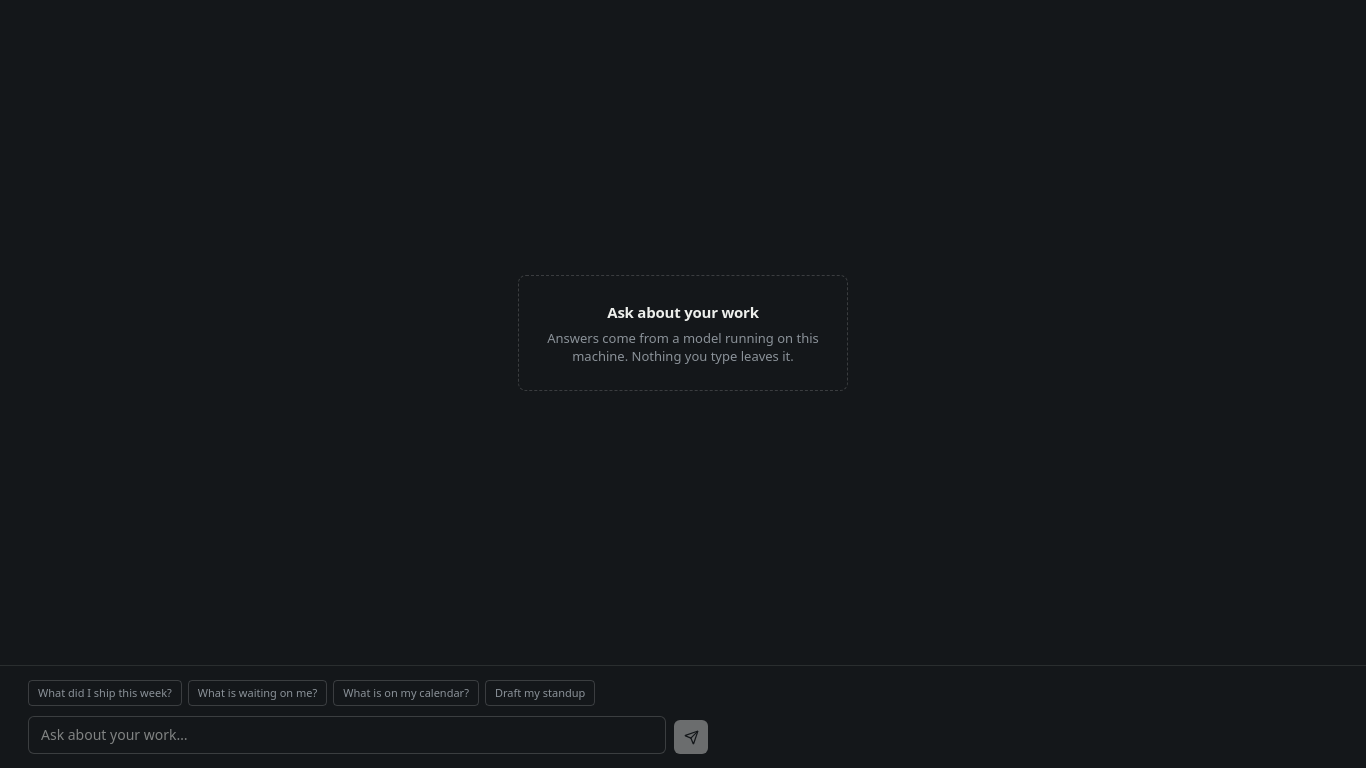
it: ChatView › sends the question to the local model and shows the reply
Type "What did I ship?" into the text box named "Message your chief of staff".
click(347, 735); type("What did I ship?")  # box [28,716,666,754]
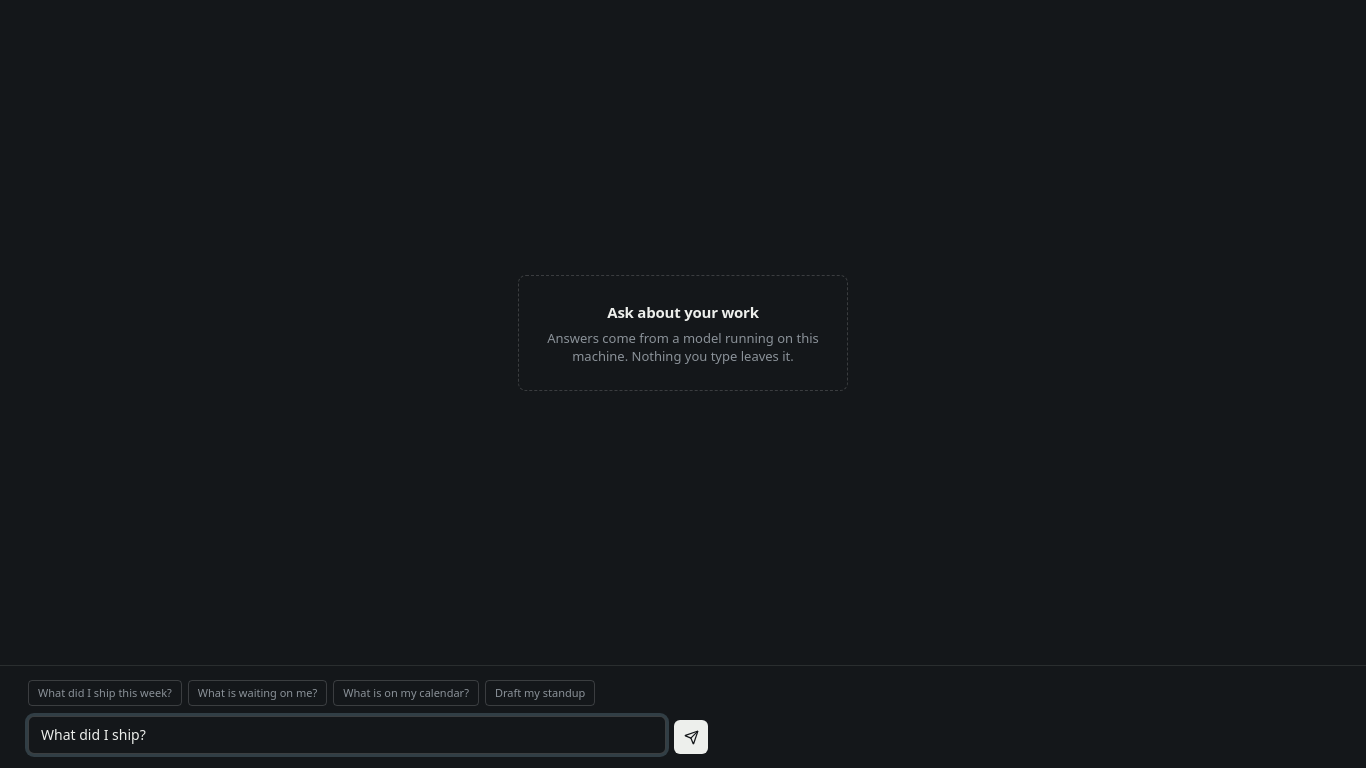
Click the button named "Send message".
click(691, 737)  # box [674,720,708,754]
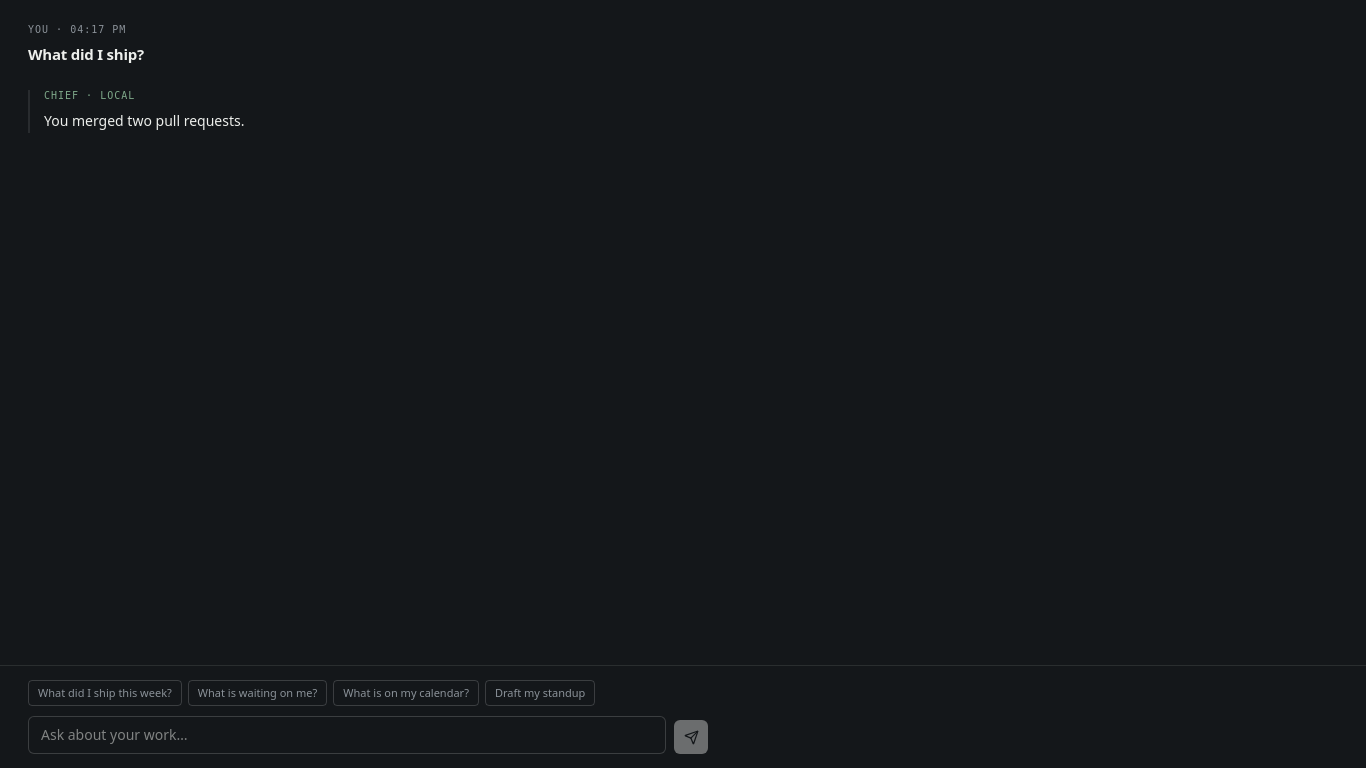
Check: the text "You merged two pull requests." is shown, box [43,110,244,130]
Check: the text "What did I ship?" is shown, box [27,43,144,64]
